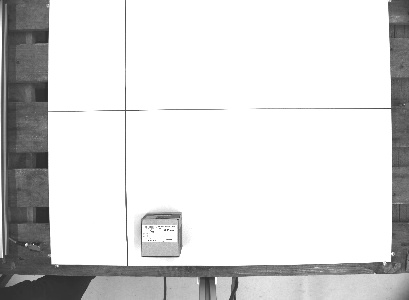b7: (137, 210, 185, 261)
